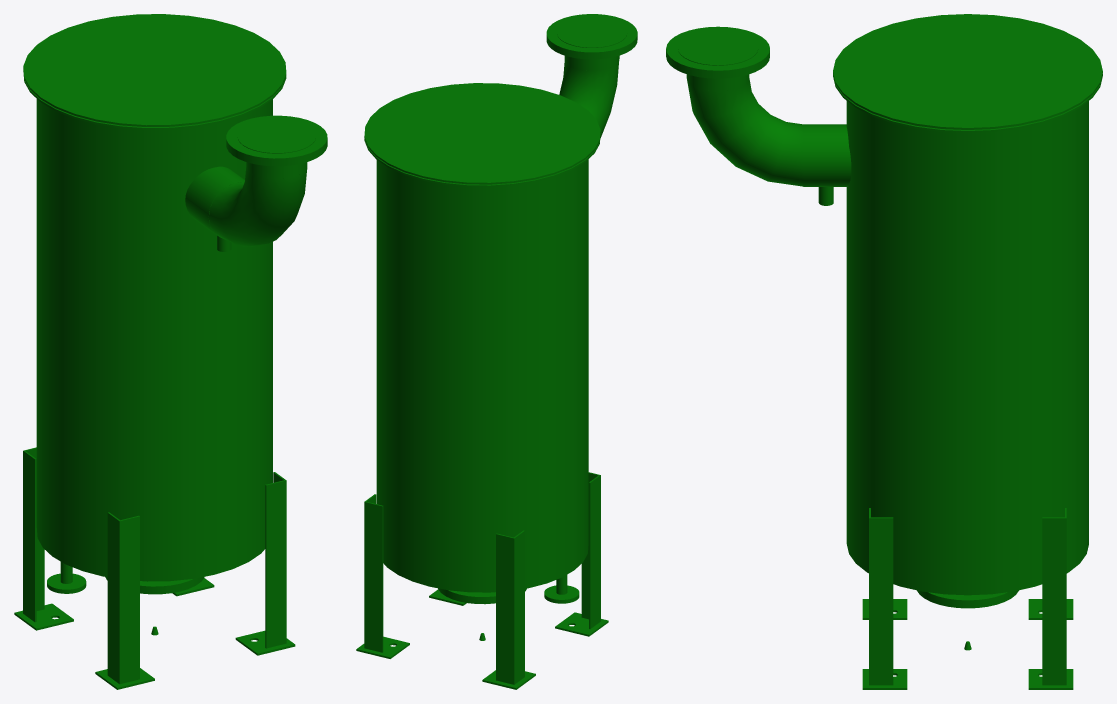
Rendered from Image-1711348127763-2280757685024_27-CB61.fbx.
3 views of the same model, side by side, from view 1: azimuth 30°, elevation 25°; view 2: azimuth 150°, elevation 25°; view 3: azimuth 270°, elevation 25° (orthographic). The views are drawn at different scales.
Parts seen in each view (by area): view 1: CYLINDER 3 of SUBEQUIPMENT 1 of EQUIPMENT /27-CB61, CYLINDER 1 of SUBEQUIPMENT 1 of EQUIPMENT /27-CB61, BOX 8 of SUBEQUIPMENT 1 of EQUIPMENT /27-CB61, CTORUS 1 of SUBEQUIPMENT 1 of EQUIPMENT /27-CB61, /27-CB61/OUTLET, BOX 7 of SUBEQUIPMENT 1 of EQUIPMENT /27-CB61, BOX 1 of SUBEQUIPMENT 1 of EQUIPMENT /27-CB61, CYLINDER 6 of SUBEQUIPMENT 1 of EQUIPMENT /27-CB61, CYLINDER 2 of SUBEQUIPMENT 1 of EQUIPMENT /27-CB61, /27-CB61/N1139, BOX 2 of SUBEQUIPMENT 1 of EQUIPMENT /27-CB61, /27-CB61/N1138 (+1 smaller); view 2: CYLINDER 3 of SUBEQUIPMENT 1 of EQUIPMENT /27-CB61, CYLINDER 1 of SUBEQUIPMENT 1 of EQUIPMENT /27-CB61, BOX 1 of SUBEQUIPMENT 1 of EQUIPMENT /27-CB61, /27-CB61/OUTLET, BOX 6 of SUBEQUIPMENT 1 of EQUIPMENT /27-CB61, BOX 8 of SUBEQUIPMENT 1 of EQUIPMENT /27-CB61, CTORUS 1 of SUBEQUIPMENT 1 of EQUIPMENT /27-CB61, CYLINDER 2 of SUBEQUIPMENT 1 of EQUIPMENT /27-CB61, /27-CB61/N1139, BOX 5 of SUBEQUIPMENT 1 of EQUIPMENT /27-CB61, /27-CB61/N1138, BOX 3 of SUBEQUIPMENT 1 of EQUIPMENT /27-CB61; view 3: CYLINDER 3 of SUBEQUIPMENT 1 of EQUIPMENT /27-CB61, CYLINDER 1 of SUBEQUIPMENT 1 of EQUIPMENT /27-CB61, CTORUS 1 of SUBEQUIPMENT 1 of EQUIPMENT /27-CB61, /27-CB61/OUTLET, BOX 6 of SUBEQUIPMENT 1 of EQUIPMENT /27-CB61, BOX 7 of SUBEQUIPMENT 1 of EQUIPMENT /27-CB61, CYLINDER 6 of SUBEQUIPMENT 1 of EQUIPMENT /27-CB61, /27-CB61/N1138, CYLINDER 2 of SUBEQUIPMENT 1 of EQUIPMENT /27-CB61.
Boxes of the visible parts, box(x1,y1,x2,y2) form: CYLINDER 3 of SUBEQUIPMENT 1 of EQUIPMENT /27-CB61: box(36, 99, 272, 581); CYLINDER 1 of SUBEQUIPMENT 1 of EQUIPMENT /27-CB61: box(23, 14, 286, 126); BOX 8 of SUBEQUIPMENT 1 of EQUIPMENT /27-CB61: box(107, 512, 139, 684); CTORUS 1 of SUBEQUIPMENT 1 of EQUIPMENT /27-CB61: box(208, 167, 307, 246); /27-CB61/OUTLET: box(226, 115, 327, 178); BOX 7 of SUBEQUIPMENT 1 of EQUIPMENT /27-CB61: box(265, 472, 286, 648); BOX 1 of SUBEQUIPMENT 1 of EQUIPMENT /27-CB61: box(23, 447, 44, 622); CYLINDER 6 of SUBEQUIPMENT 1 of EQUIPMENT /27-CB61: box(185, 166, 244, 235); CYLINDER 2 of SUBEQUIPMENT 1 of EQUIPMENT /27-CB61: box(23, 69, 286, 129); /27-CB61/N1139: box(47, 562, 86, 593); BOX 2 of SUBEQUIPMENT 1 of EQUIPMENT /27-CB61: box(14, 603, 73, 630); /27-CB61/N1138: box(105, 576, 204, 594); CYLINDER 3 of SUBEQUIPMENT 1 of EQUIPMENT /27-CB61: box(376, 159, 588, 592); CYLINDER 1 of SUBEQUIPMENT 1 of EQUIPMENT /27-CB61: box(364, 83, 600, 184); BOX 1 of SUBEQUIPMENT 1 of EQUIPMENT /27-CB61: box(496, 530, 524, 684); /27-CB61/OUTLET: box(546, 14, 637, 70); BOX 6 of SUBEQUIPMENT 1 of EQUIPMENT /27-CB61: box(364, 494, 383, 652); BOX 8 of SUBEQUIPMENT 1 of EQUIPMENT /27-CB61: box(581, 472, 600, 628); CTORUS 1 of SUBEQUIPMENT 1 of EQUIPMENT /27-CB61: box(559, 60, 618, 138); CYLINDER 2 of SUBEQUIPMENT 1 of EQUIPMENT /27-CB61: box(364, 134, 600, 187); /27-CB61/N1139: box(544, 575, 579, 603); BOX 5 of SUBEQUIPMENT 1 of EQUIPMENT /27-CB61: box(555, 612, 608, 636); /27-CB61/N1138: box(438, 588, 526, 604); BOX 3 of SUBEQUIPMENT 1 of EQUIPMENT /27-CB61: box(356, 636, 409, 658); CYLINDER 3 of SUBEQUIPMENT 1 of EQUIPMENT /27-CB61: box(846, 101, 1088, 595); CYLINDER 1 of SUBEQUIPMENT 1 of EQUIPMENT /27-CB61: box(833, 14, 1102, 129); CTORUS 1 of SUBEQUIPMENT 1 of EQUIPMENT /27-CB61: box(687, 78, 803, 186); /27-CB61/OUTLET: box(666, 26, 769, 91); BOX 6 of SUBEQUIPMENT 1 of EQUIPMENT /27-CB61: box(1042, 508, 1066, 685); BOX 7 of SUBEQUIPMENT 1 of EQUIPMENT /27-CB61: box(869, 508, 893, 685); CYLINDER 6 of SUBEQUIPMENT 1 of EQUIPMENT /27-CB61: box(803, 124, 851, 186); /27-CB61/N1138: box(917, 590, 1018, 608); CYLINDER 2 of SUBEQUIPMENT 1 of EQUIPMENT /27-CB61: box(833, 74, 1102, 132).
Size of the model in its own units: 0.724 by 1.17 by 1.78.
